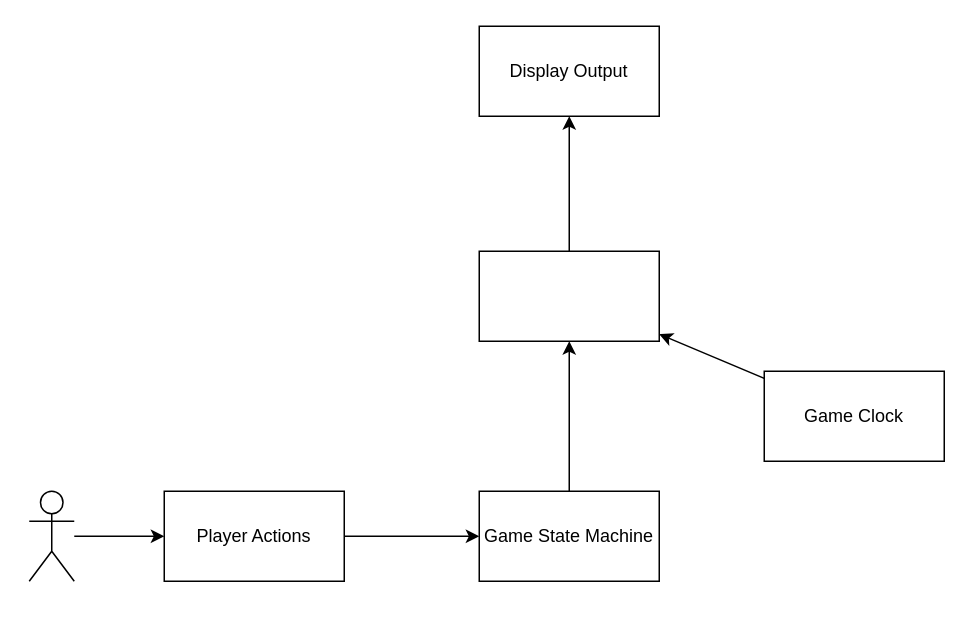
This 971x639 diagram has some shape labels left out. Each missing label, with the centre of its shape:
"Player" belongs at (x=51, y=535).
"Renderer" belongs at (x=568, y=295).
